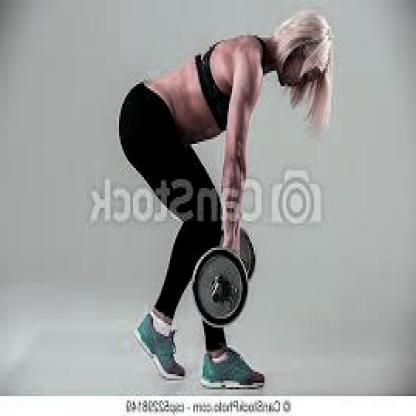Barbell: (209, 289, 218, 307)
